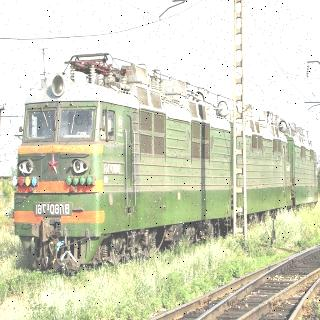poezd: (23, 72, 318, 271)
